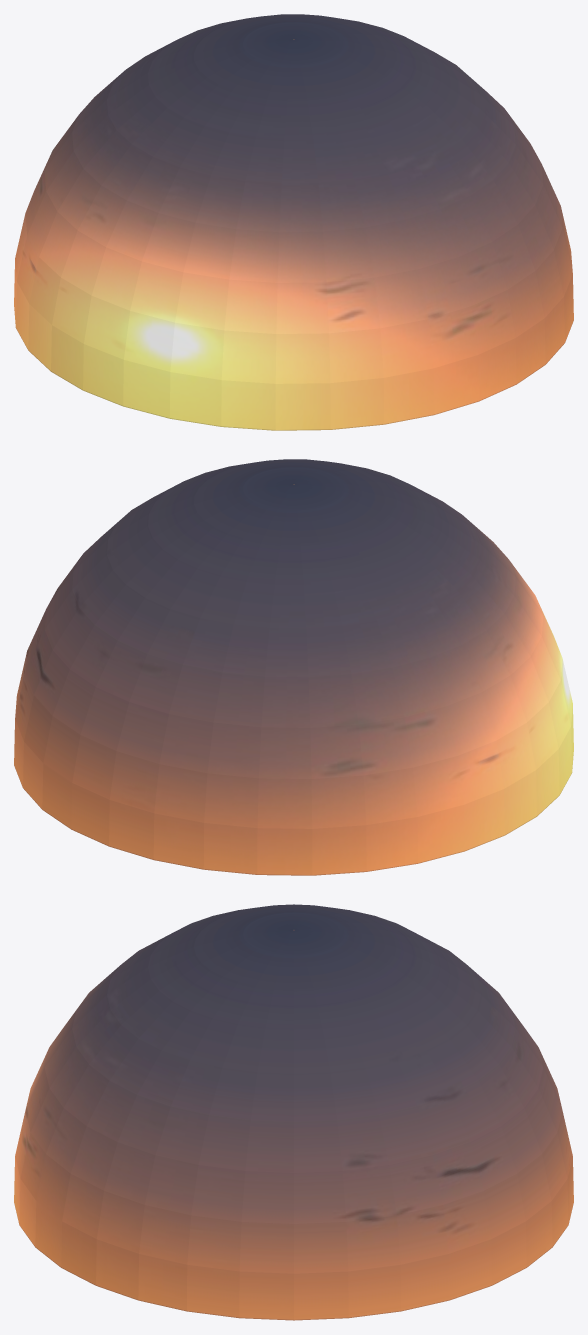
Rendered from lugar-milan-ciudad.glb.
3 views of the same model, one above another, from view 1: azimuth 30°, elevation 25°; view 2: azimuth 150°, elevation 25°; view 3: azimuth 270°, elevation 25° (orthographic).
Parts seen in each view (by area): view 1: planoC; view 2: planoC; view 3: planoC.
Part boxes in pixels (x1,y1,x2,y2): planoC: [14, 14, 573, 430]; planoC: [14, 459, 573, 875]; planoC: [14, 904, 573, 1320].
Bounding box in the file's own units: 6584 × 3530 × 6584.
11 materials, 9 textured.
